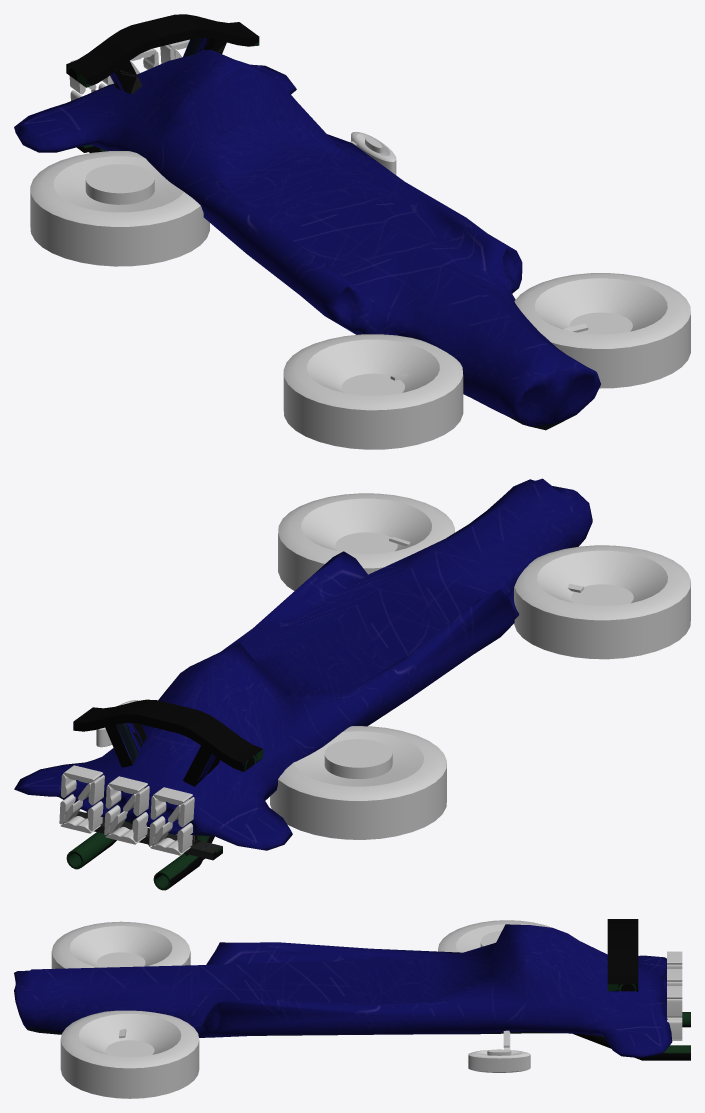
The model's file is race_car2.fbx.
3 views of the same model, one above another, from view 1: azimuth 30°, elevation 25°; view 2: azimuth 150°, elevation 25°; view 3: azimuth 270°, elevation 25° (orthographic). The views are drawn at different scales.
Parts seen in each view (by area): view 1: Body, Wheel, Wheel.003, Wheel.002, TopSpoller, Text, Wheel.001; view 2: Body, Wheel, Wheel.003, Wheel.002, TopSpoller, Text, ExhausePipe, BottomSpoller; view 3: Body, Wheel.002, Wheel, TopSpoller, Wheel.003, Text, Wheel.001, ExhausePipe.
Boxes of the visible parts, x1,y1,x2,y2 form: Body: (14,50,600,430); Wheel: (283,334,463,449); Wheel.003: (30,151,209,266); Wheel.002: (514,273,690,388); TopSpoller: (66,14,259,94); Text: (69,39,189,100); Wheel.001: (351,131,396,174); Body: (14,478,592,850); Wheel: (514,545,690,659); Wheel.003: (270,726,446,839); Wheel.002: (278,493,454,590); TopSpoller: (73,699,263,786); Text: (59,765,194,855); ExhausePipe: (66,821,214,890); BottomSpoller: (63,811,222,860); Body: (14,924,672,1057); Wheel.002: (60,1010,199,1098); Wheel: (51,921,190,968); TopSpoller: (607,919,638,991); Wheel.003: (438,920,555,952); Text: (667,951,682,1040); Wheel.001: (468,1049,530,1072); ExhausePipe: (573,1012,690,1060).
Size of the model in its own units: 227 by 84.52 by 439.
